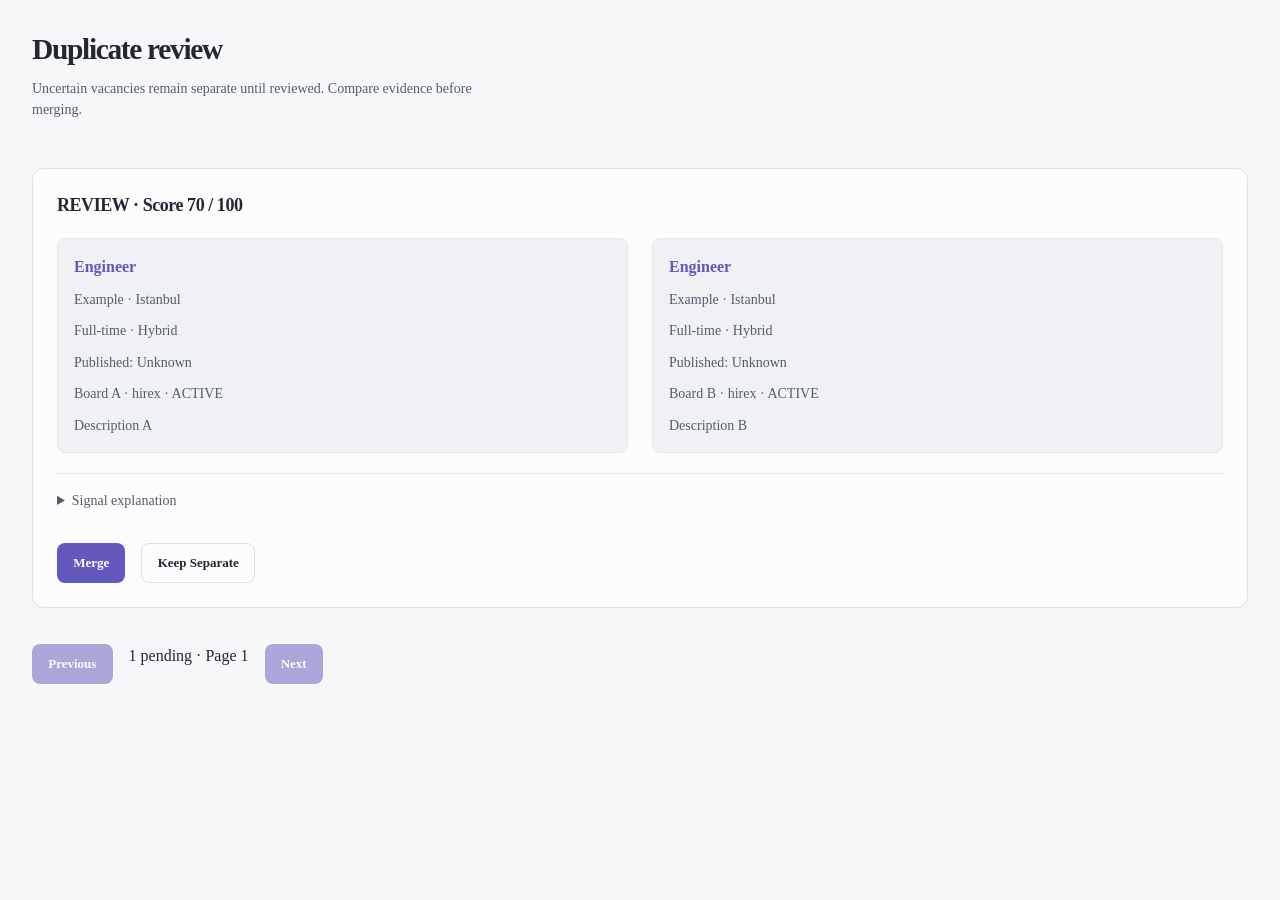
Test case: keeps jobs separate and refreshes the authoritative pending queue
Expected: the text "Description A" is shown, [74, 418, 152, 433]
Click the button "Keep Separate".
click(198, 563)  # box [142, 543, 255, 583]
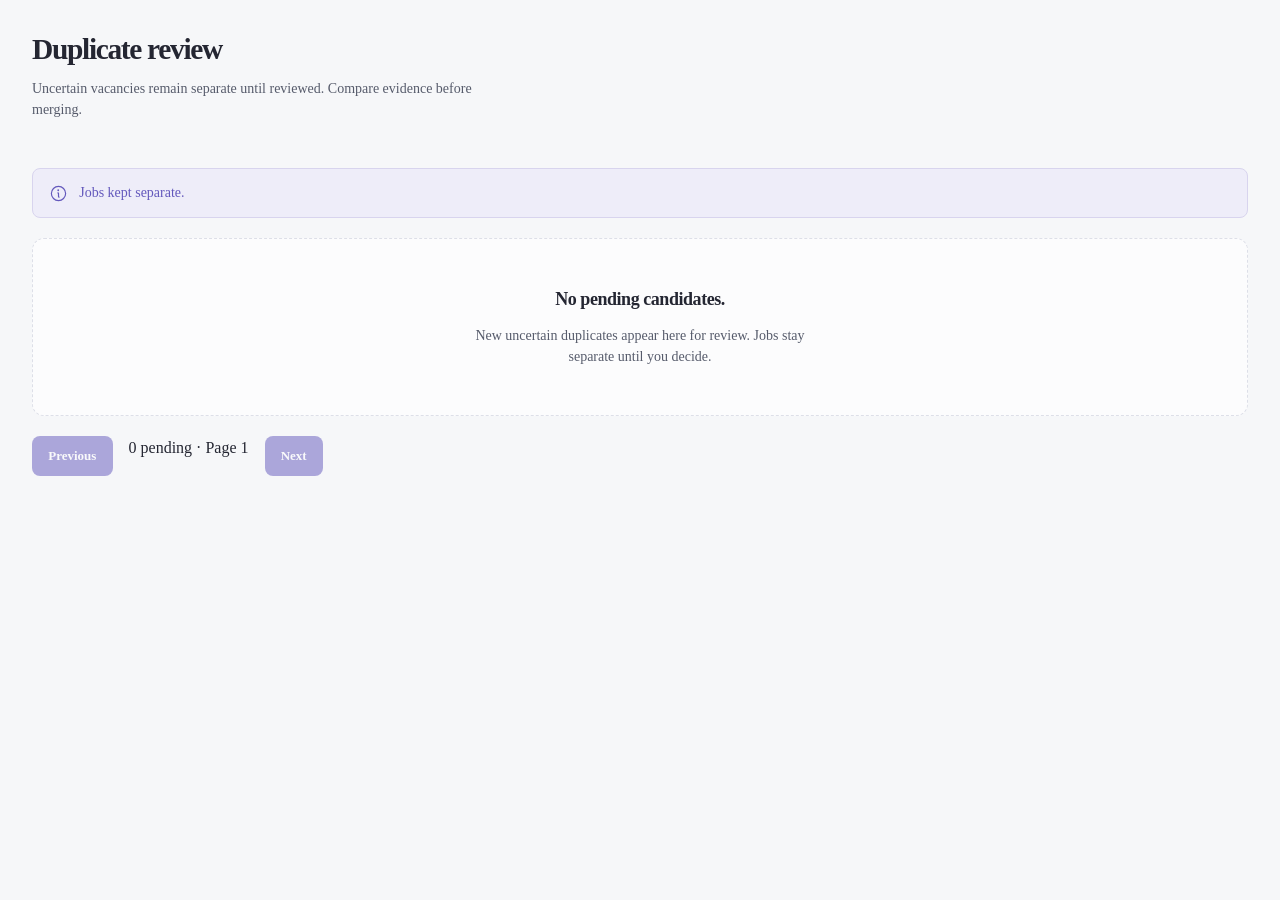
Expected: the text "Jobs kept separate." is shown, [79, 182, 185, 203]
